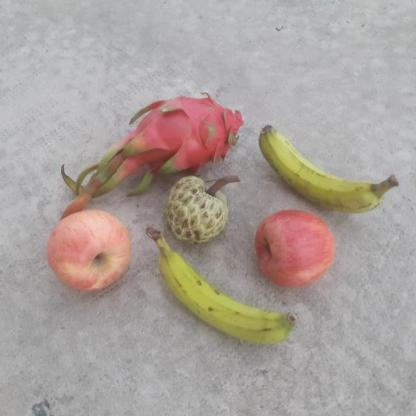annona: (164, 174, 241, 246)
apple: (46, 210, 134, 295), (254, 210, 338, 289)
banana: (144, 229, 302, 346), (256, 124, 399, 213)
pitaya: (133, 88, 247, 181)
